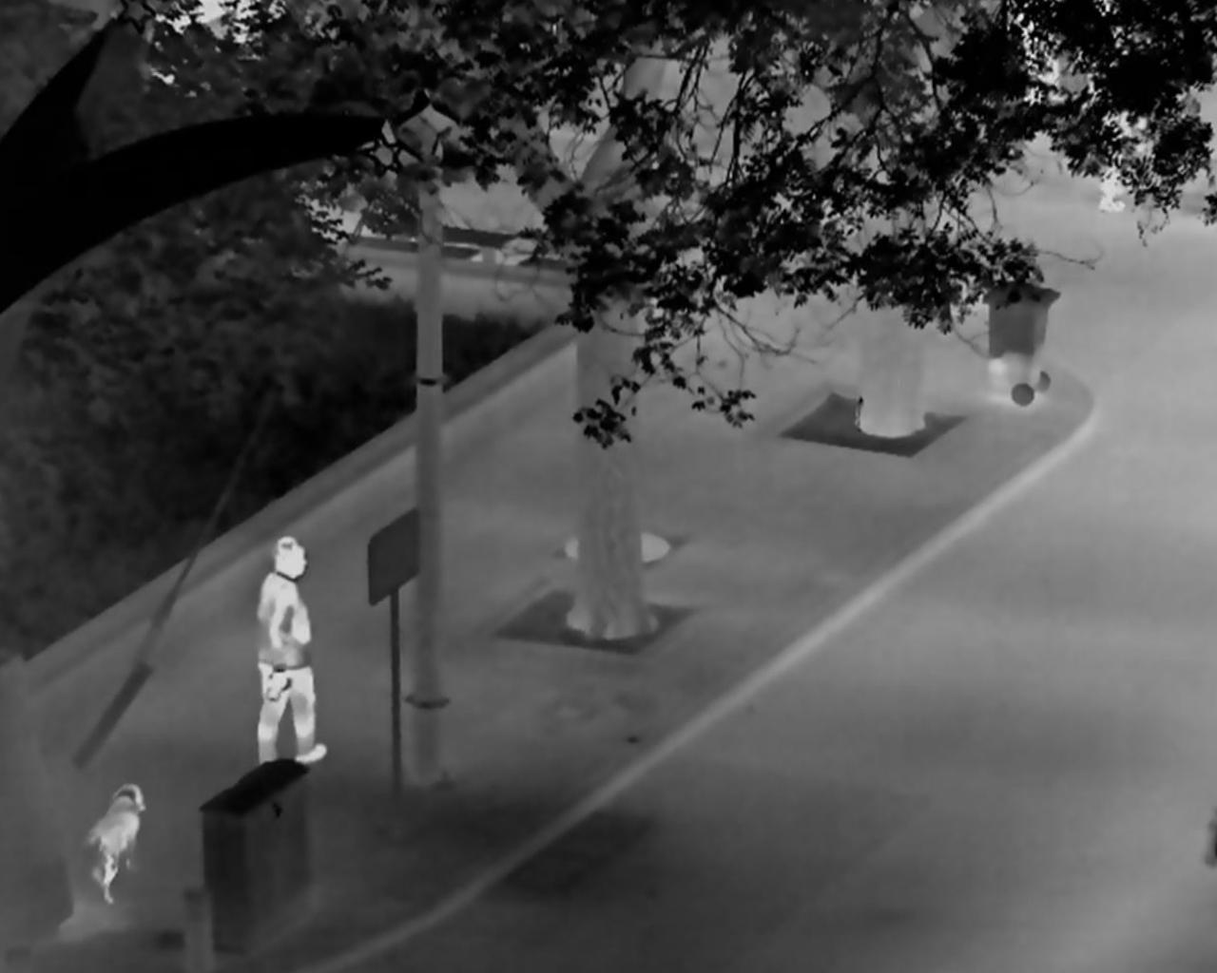person: (256, 535, 327, 765), (1081, 45, 1161, 213)
